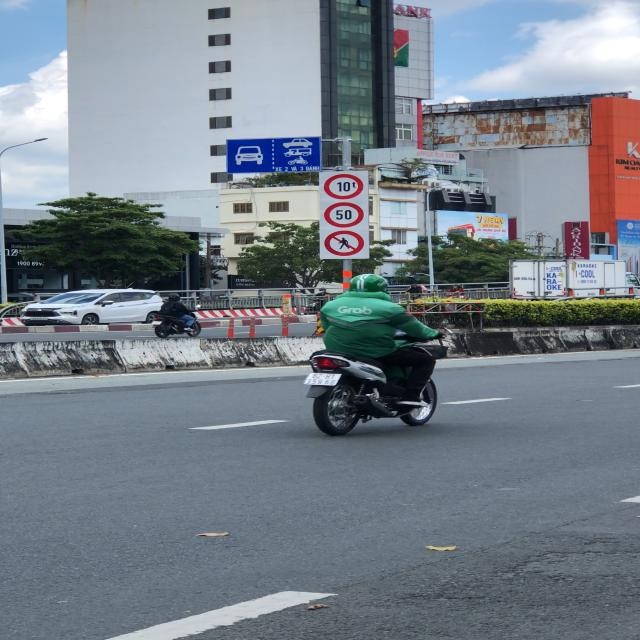Bien bao toc do toi da cho phep: (322, 201, 366, 229)
